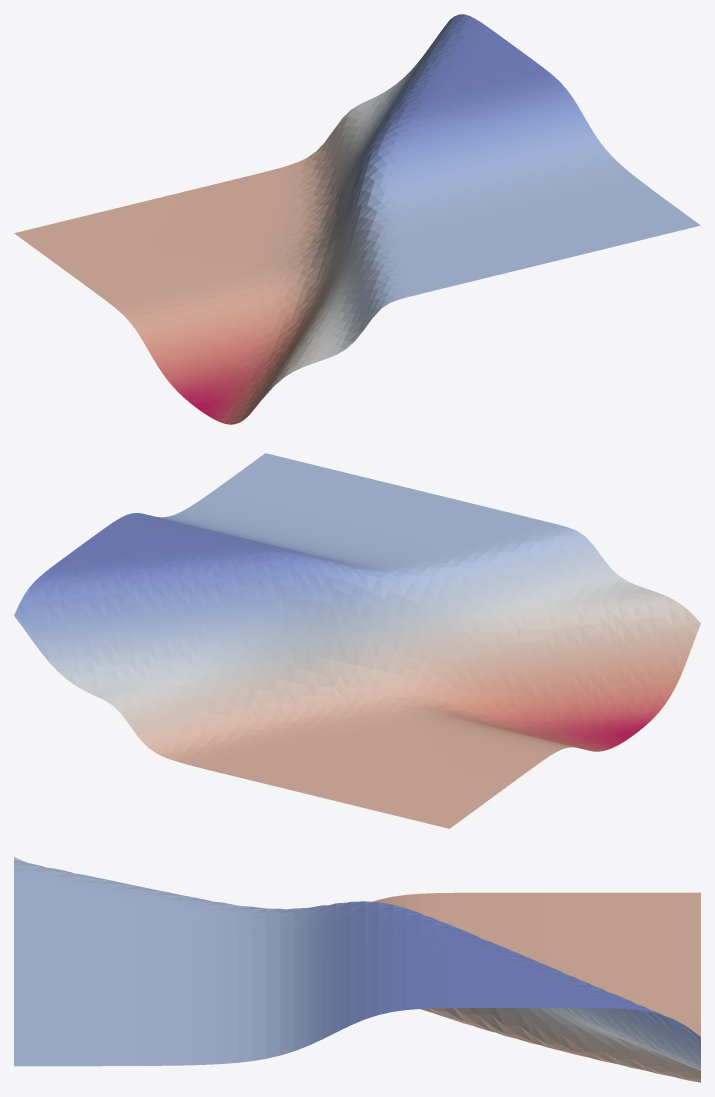
Rendered from StateSpace.glb.
The picture shows the model from 3 angles, top to bottom: view 1: azimuth 30°, elevation 25°; view 2: azimuth 150°, elevation 25°; view 3: azimuth 270°, elevation 25°; orthographic projection. The views are drawn at different scales.
Parts seen in each view (by area): view 1: world; view 2: world; view 3: world.
Part boxes in pixels (x1,y1,x2,y2): world: (14,14,700,424); world: (14,453,700,828); world: (14,857,700,1082).
Bounding box in the file's own units: 20 × 7.43 × 20.
